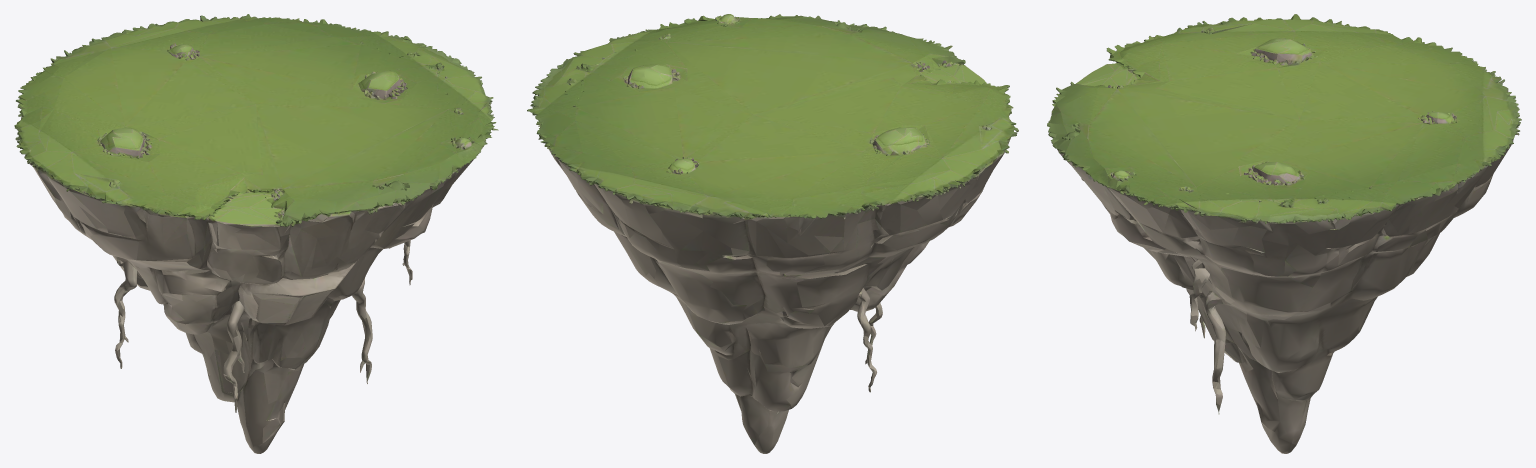
File: island-base.glb
3 views of the same model, side by side, from view 1: azimuth 30°, elevation 25°; view 2: azimuth 150°, elevation 25°; view 3: azimuth 270°, elevation 25° (orthographic). The views are drawn at different scales.
Size of the model in its own units: 1.9 by 1.5 by 1.86.
1 material, 1 textured.
